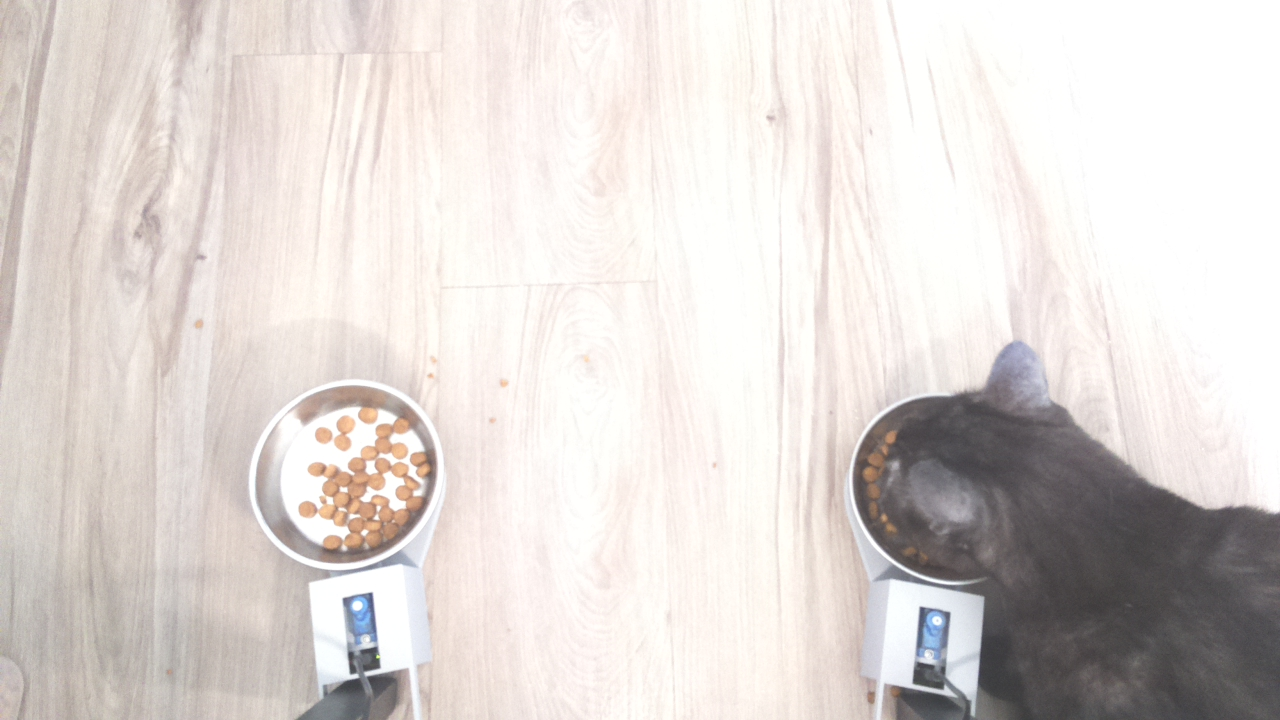open_bowl: (244, 370, 455, 580)
saki_eating: (847, 330, 1133, 611)
